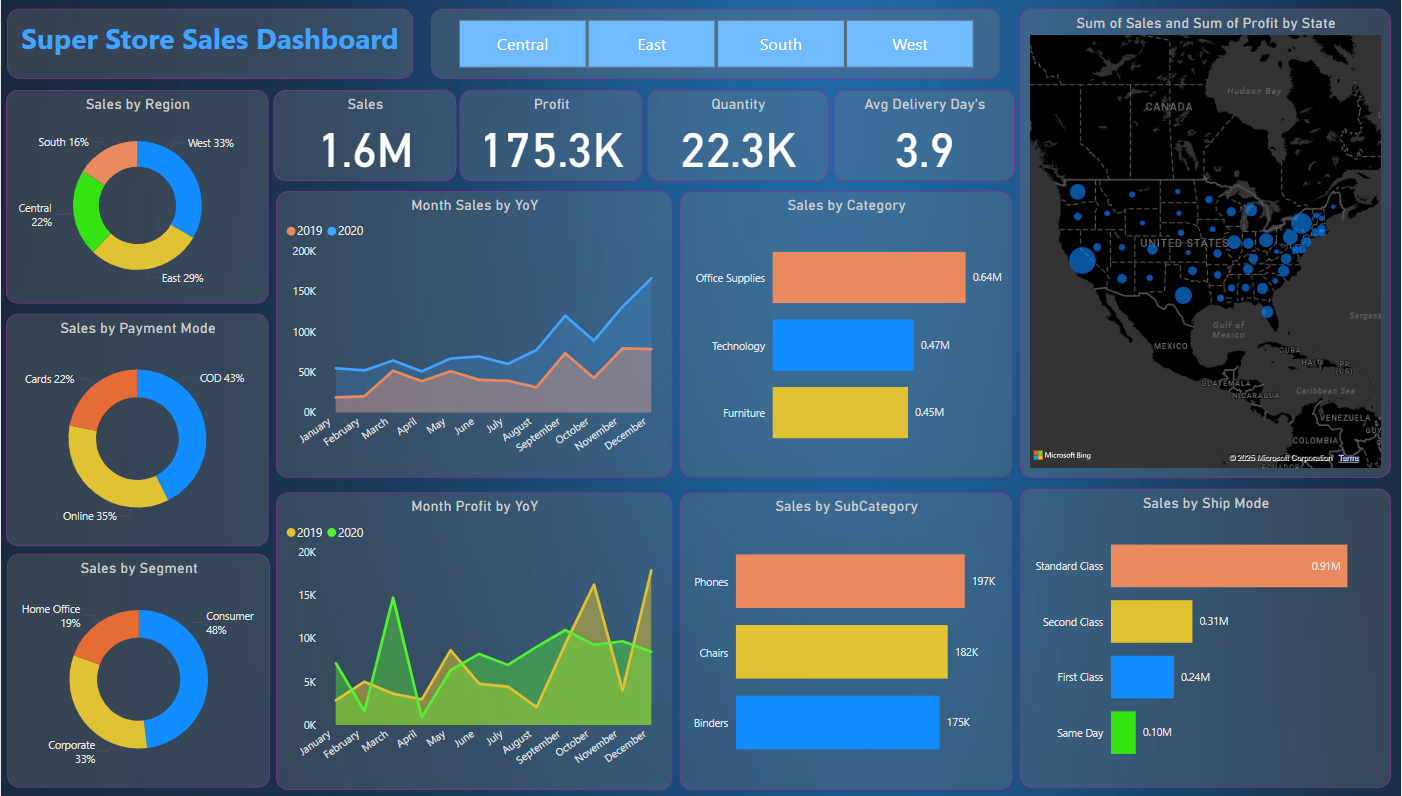

This screenshot's page, from the dashboard's own definition file:
{"tool":"powerbi","page":{"name":"Dashboard","canvas":[1600,920],"ordinal":0},"visuals":[{"type":"clusteredBarChart","title":"Sales by Category","fields":{"Category":["SuperStore_Sales_Dataset.Category"],"Y":["Sum(SuperStore_Sales_Dataset.Sales)"]},"box":[775.7,218.6,380,327.1],"z":0},{"type":"clusteredBarChart","title":"Sales by SubCategory","fields":{"Category":["SuperStore_Sales_Dataset.Sub-Category"],"Y":["Sum(SuperStore_Sales_Dataset.Sales)"]},"box":[775.7,562.9,380,340],"z":1000},{"type":"clusteredBarChart","title":"Sales by Ship Mode","fields":{"Y":["Sum(SuperStore_Sales_Dataset.Sales)"],"Category":["SuperStore_Sales_Dataset.Ship Mode"]},"box":[1164.3,558.6,424.3,341.4],"z":2000},{"type":"areaChart","title":"Month Sales by YoY","fields":{"Y":["Sum(SuperStore_Sales_Dataset.Sales)"],"Category":["SuperStore_Sales_Dataset.Order Date.Variation.Date Hierarchy.Month","SuperStore_Sales_Dataset.Order Date.Variation.Date Hierarchy.Day"],"Series":["SuperStore_Sales_Dataset.Order Date.Variation.Date Hierarchy.Year"]},"box":[314.3,218.6,452.9,327.1],"z":3000},{"type":"areaChart","title":"Month Profit by YoY","fields":{"Category":["SuperStore_Sales_Dataset.Order Date.Variation.Date Hierarchy.Month","SuperStore_Sales_Dataset.Order Date.Variation.Date Hierarchy.Day"],"Series":["SuperStore_Sales_Dataset.Order Date.Variation.Date Hierarchy.Year"],"Y":["Sum(SuperStore_Sales_Dataset.Profit)"]},"box":[314.3,562.9,452.9,340],"z":4000},{"type":"map","fields":{"Category":["SuperStore_Sales_Dataset.State"],"Size":["Sum(SuperStore_Sales_Dataset.Sales)"]},"box":[1164.3,10,424.3,535.7],"z":5000},{"type":"donutChart","title":"Sales by Segment","fields":{"Category":["SuperStore_Sales_Dataset.Segment"],"Y":["Sum(SuperStore_Sales_Dataset.Sales)"]},"box":[7.1,632.9,300,267.1],"z":6000},{"type":"donutChart","title":"Sales by Payment Mode","fields":{"Y":["Sum(SuperStore_Sales_Dataset.Sales)"],"Category":["SuperStore_Sales_Dataset.Payment Mode"]},"box":[5.7,358.6,300,265.7],"z":7000},{"type":"slicer","fields":{"Values":["SuperStore_Sales_Dataset.Region"]},"box":[491.4,10,650,80],"z":8000},{"type":"textbox","box":[7.5,10,463.8,80],"z":9000},{"type":"card","title":"Sales","fields":{"Values":["Sum(SuperStore_Sales_Dataset.Sales)"]},"box":[311.4,102.9,208.6,104.3],"z":10000},{"type":"card","title":"Profit","fields":{"Values":["Sum(SuperStore_Sales_Dataset.Profit)"]},"box":[524.3,102.9,208.6,104.3],"z":11000},{"type":"card","title":"Quantity","fields":{"Values":["Sum(SuperStore_Sales_Dataset.Quantity)"]},"box":[738.6,102.9,207.1,104.3],"z":12000},{"type":"donutChart","title":"Sales by Region","fields":{"Y":["Sum(SuperStore_Sales_Dataset.Sales)"],"Category":["SuperStore_Sales_Dataset.Region"]},"box":[5.7,102.9,300,244.3],"z":13000},{"type":"card","title":"Avg Delivery Day''s","fields":{"Values":["Avg(SuperStore_Sales_Dataset.Avg Delivery Day's)"]},"box":[951.4,102.9,207.1,104.3],"z":14000}]}

Visuals, with their boxes in screenshot pixels (x1, y1, x2, y2), scaled from the page's 1600x920 canvas onto the 1402x796 screenshot:
"Sales by Category" clusteredBarChart: detection(680, 189, 1013, 472)
"Sales by SubCategory" clusteredBarChart: detection(680, 487, 1013, 781)
"Sales by Ship Mode" clusteredBarChart: detection(1020, 483, 1392, 779)
"Month Sales by YoY" areaChart: detection(275, 189, 672, 472)
"Month Profit by YoY" areaChart: detection(275, 487, 672, 781)
map - SuperStore_Sales_Dataset.State x Sum(SuperStore_Sales_Dataset.Sales): detection(1020, 9, 1392, 472)
"Sales by Segment" donutChart: detection(6, 548, 269, 779)
"Sales by Payment Mode" donutChart: detection(5, 310, 268, 540)
slicer - SuperStore_Sales_Dataset.Region: detection(431, 9, 1000, 78)
textbox: detection(7, 9, 413, 78)
"Sales" card: detection(273, 89, 456, 179)
"Profit" card: detection(459, 89, 642, 179)
"Quantity" card: detection(647, 89, 829, 179)
"Sales by Region" donutChart: detection(5, 89, 268, 300)
"Avg Delivery Day''s" card: detection(834, 89, 1015, 179)
